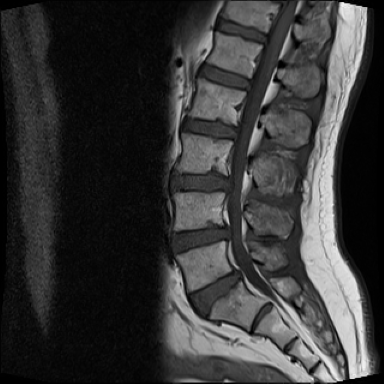Lumbar Disc Bulge (LDB): (183, 265, 245, 324), (166, 217, 236, 260), (164, 170, 243, 198)
Normal IVD: (211, 15, 273, 50), (175, 112, 241, 144), (196, 61, 255, 95)
Spinal Stenosis (SS): (214, 219, 235, 247), (217, 170, 237, 198), (228, 263, 245, 287)
